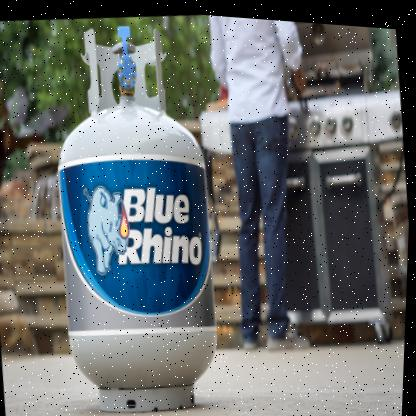gas-tank: (26, 4, 246, 415)
